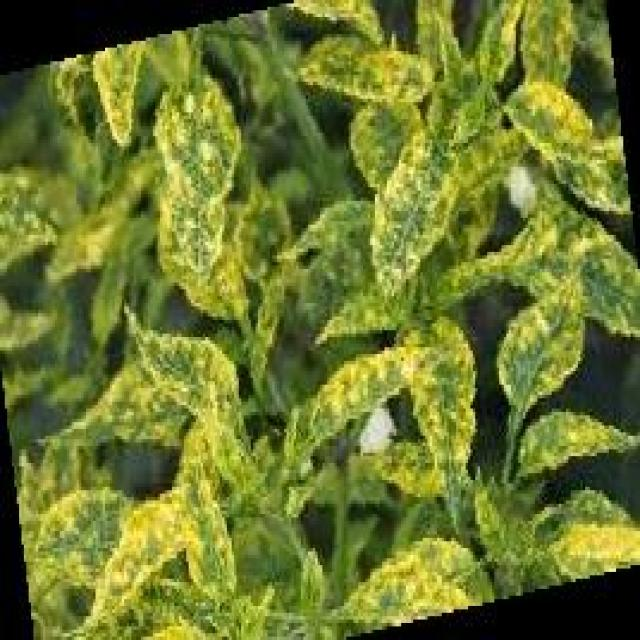Chili_anthracnose: (144, 83, 248, 298)
